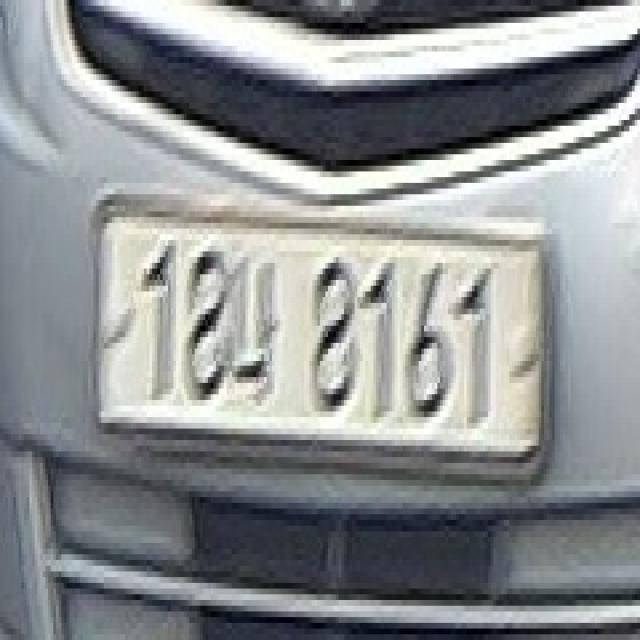1: (453, 252, 496, 452), (142, 234, 182, 417), (358, 251, 398, 423)
6: (406, 246, 454, 434)
8: (309, 246, 360, 417), (182, 234, 230, 412)
license_plate: (80, 177, 557, 497)
na: (232, 252, 283, 412)
